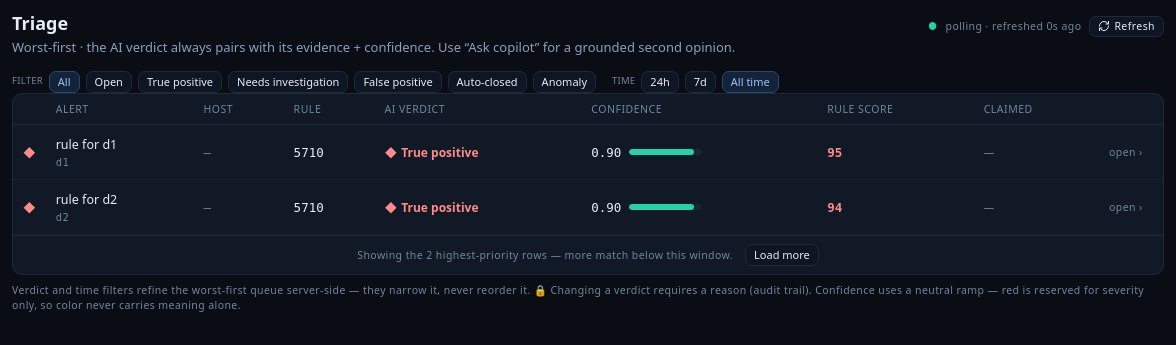
WO-H33 TriageTab pager › Load more fetches the next offset and appends (deduped)
This screenshot has width=1176, height=345.
Check: the text "rule for d1" is shown, box [56,136,117,153]
Click the button "Load more".
click(782, 255)  # box [745,244,819,266]
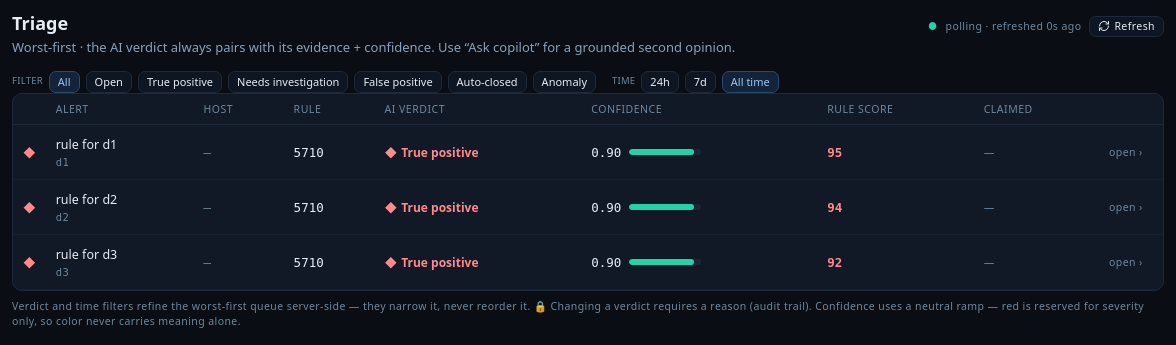
Check: the text "rule for d3" is shown, box [56,246,117,263]
Check: the text "rule for d2" is shown once, box [56,191,117,208]
Check: the button "Load more" is gone
